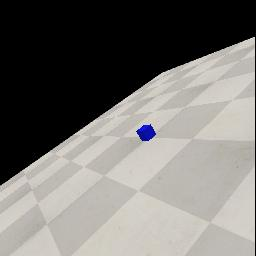box: (136, 124, 156, 141)
